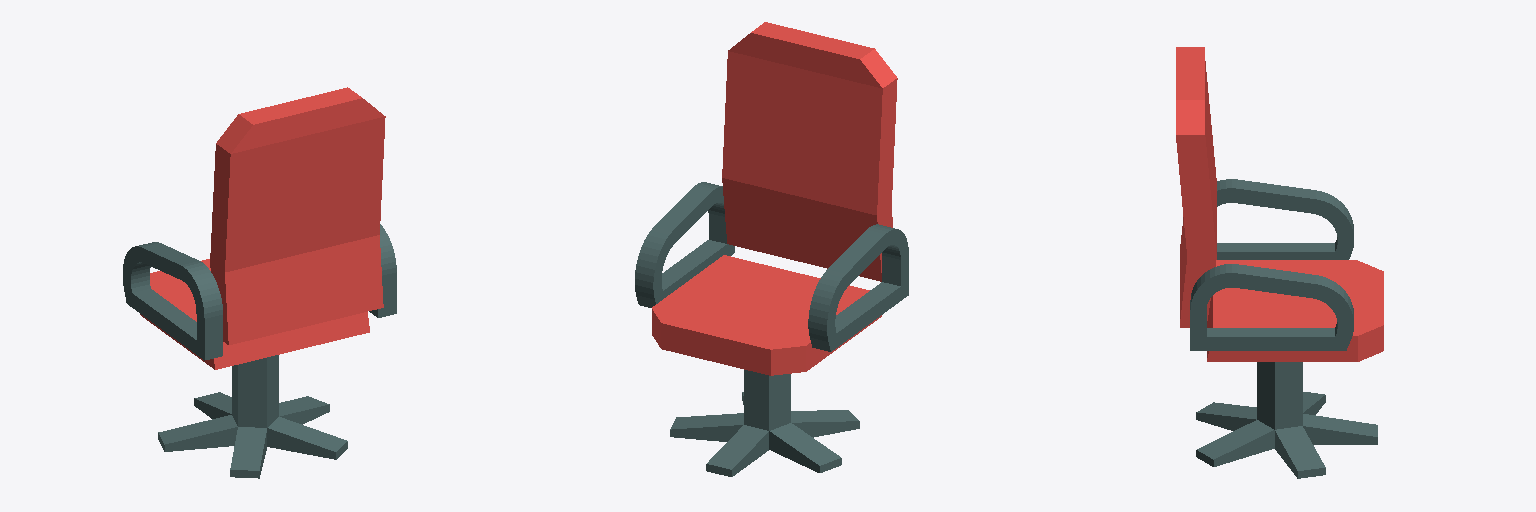
The model's file is chairDesk.obj.
3 renders of one model, left to right at view 1: azimuth 30°, elevation 25°; view 2: azimuth 150°, elevation 25°; view 3: azimuth 270°, elevation 25°, orthographic.
Parts seen in each view (by area): view 1: chair, chairDesk; view 2: chair, chairDesk; view 3: chair, chairDesk.
Part boxes in pixels (x1,y1,x2,y2): chair: (123, 87, 396, 369); chairDesk: (158, 355, 347, 478); chair: (635, 22, 908, 375); chairDesk: (670, 370, 859, 476); chair: (1176, 47, 1383, 361); chairDesk: (1196, 362, 1377, 478).
Size of the model in its own units: 0.335 by 0.6076 by 0.3143.